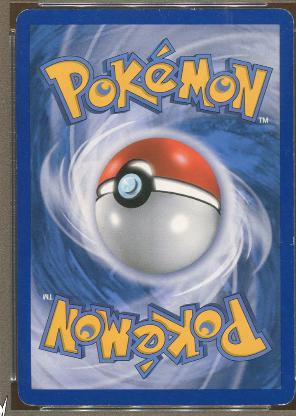Card: (12, 5, 294, 410)
Corner Wear: (275, 6, 293, 26), (272, 390, 293, 406), (15, 9, 30, 24), (26, 402, 38, 406)
Edge Wear: (155, 8, 207, 10), (49, 404, 94, 406), (290, 138, 293, 164), (16, 157, 18, 171), (291, 236, 293, 247), (254, 404, 268, 404), (230, 404, 243, 404)
Scratch: (272, 240, 288, 245), (167, 10, 169, 16)
